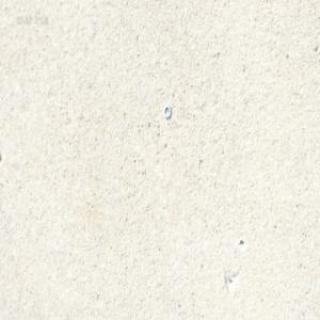Washertrack_idkeyframe: (162, 104, 170, 118)
